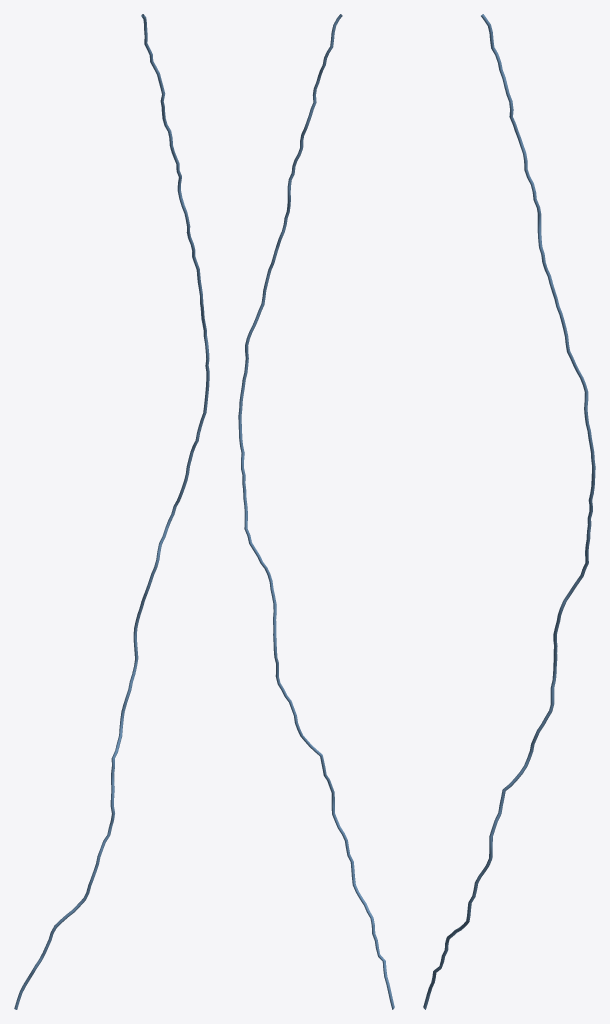
File: sweep78.fbx
The picture shows the model from 3 angles, left to right: view 1: azimuth 30°, elevation 25°; view 2: azimuth 150°, elevation 25°; view 3: azimuth 330°, elevation 25°; orthographic projection. The views are drawn at different scales.
Parts seen in each view (by area): view 1: sweep78; view 2: sweep78; view 3: sweep78.
Boxes of the visible parts, x1,y1,x2,y2 form: sweep78: (14,14,209,1009); sweep78: (238,14,394,1009); sweep78: (423,14,595,1009).
Size of the model in its own units: 1.21 by 6.51 by 0.47.
